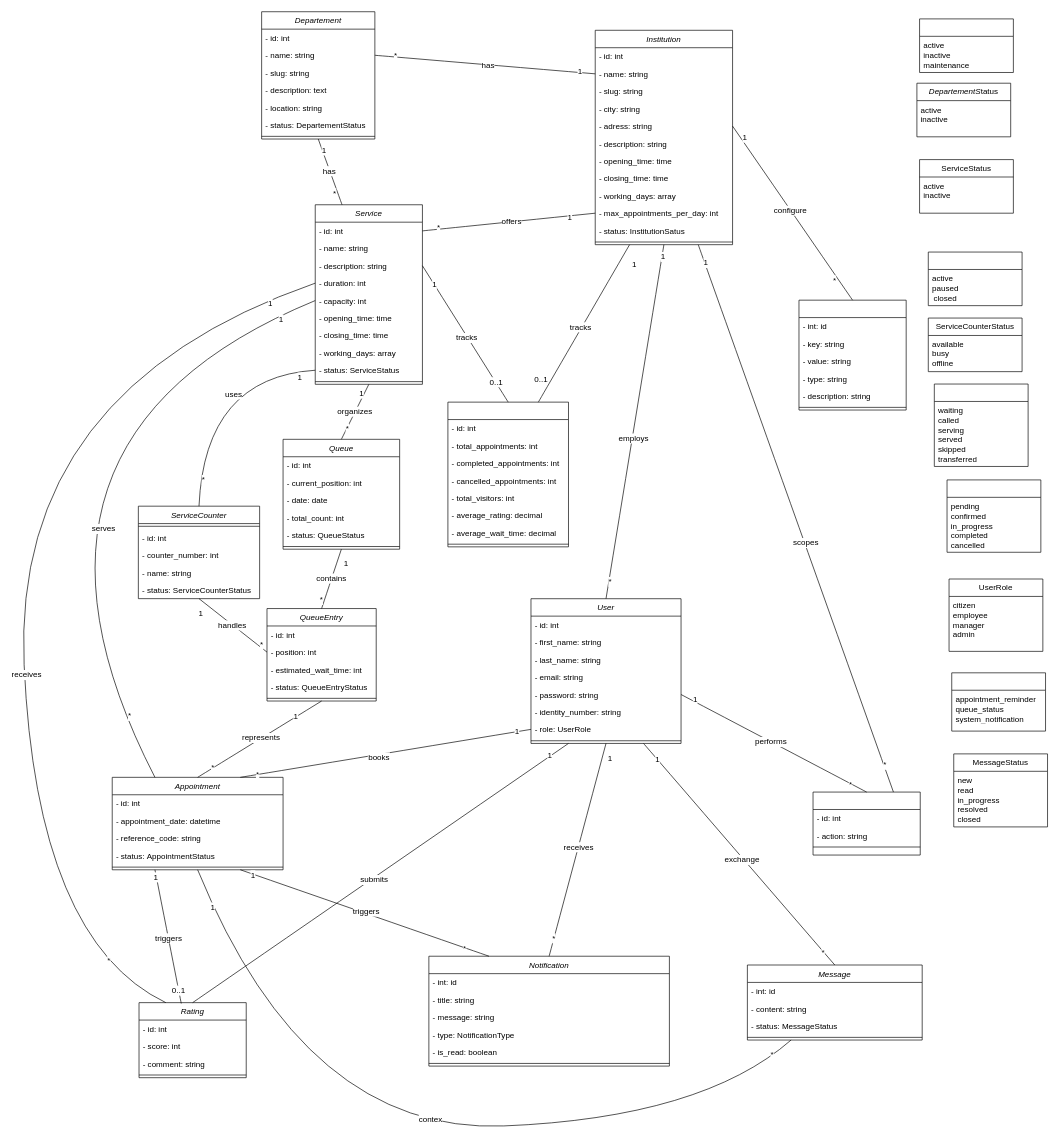
The diagram is 1060 pixels wide and 1138 high, and some of its shapes have lost their labels. Each missing label, with the box of its shape:
ActivityLog: (812, 791, 920, 855)
Analytics: (447, 401, 568, 547)
AppointmentStatus: (946, 479, 1041, 552)
InstitutionSatus: (919, 18, 1013, 72)
NotificationType: (951, 672, 1046, 731)
Queue Status: (928, 251, 1022, 306)
QueueEntryStatus: (934, 383, 1028, 466)
Settings: (798, 299, 906, 410)
